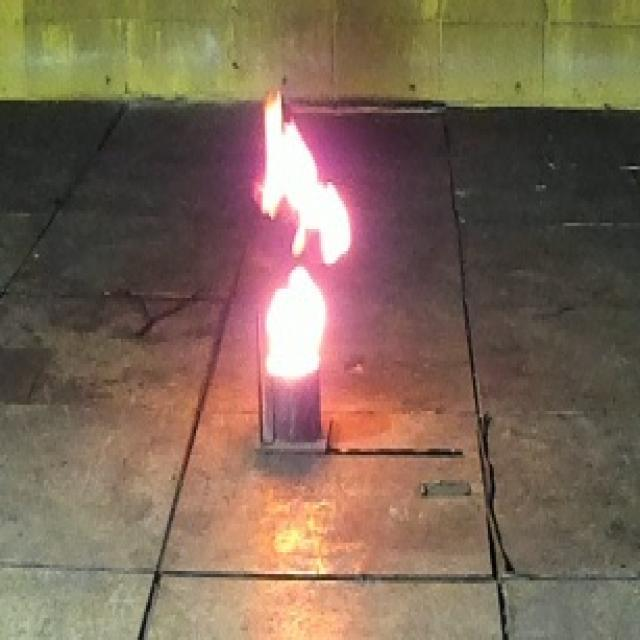Fire: (252, 89, 352, 382)
